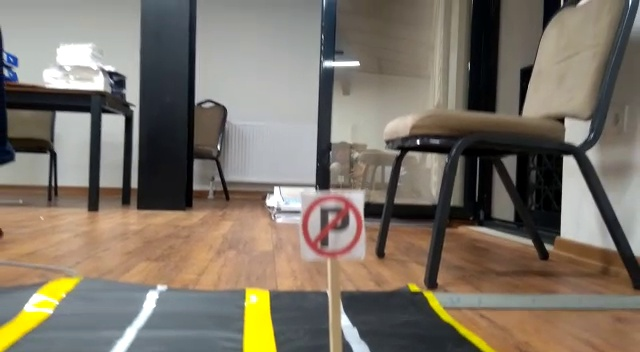park_yapilmaz: (299, 193, 366, 256)
